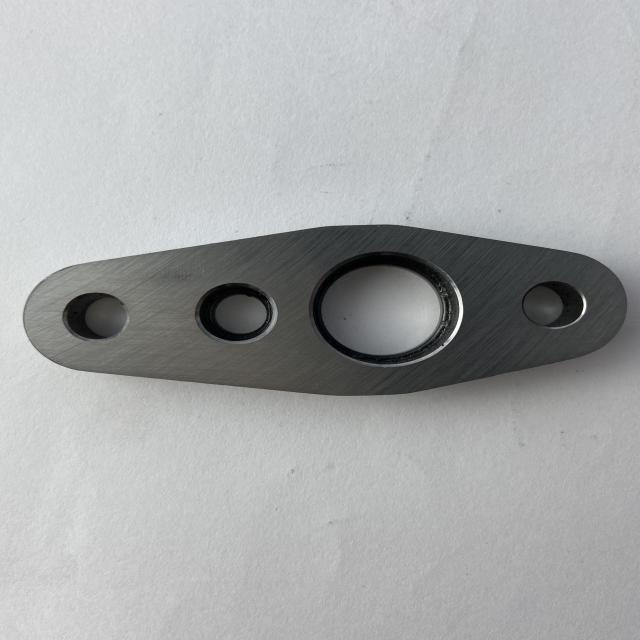chap: (200, 267, 206, 277)
